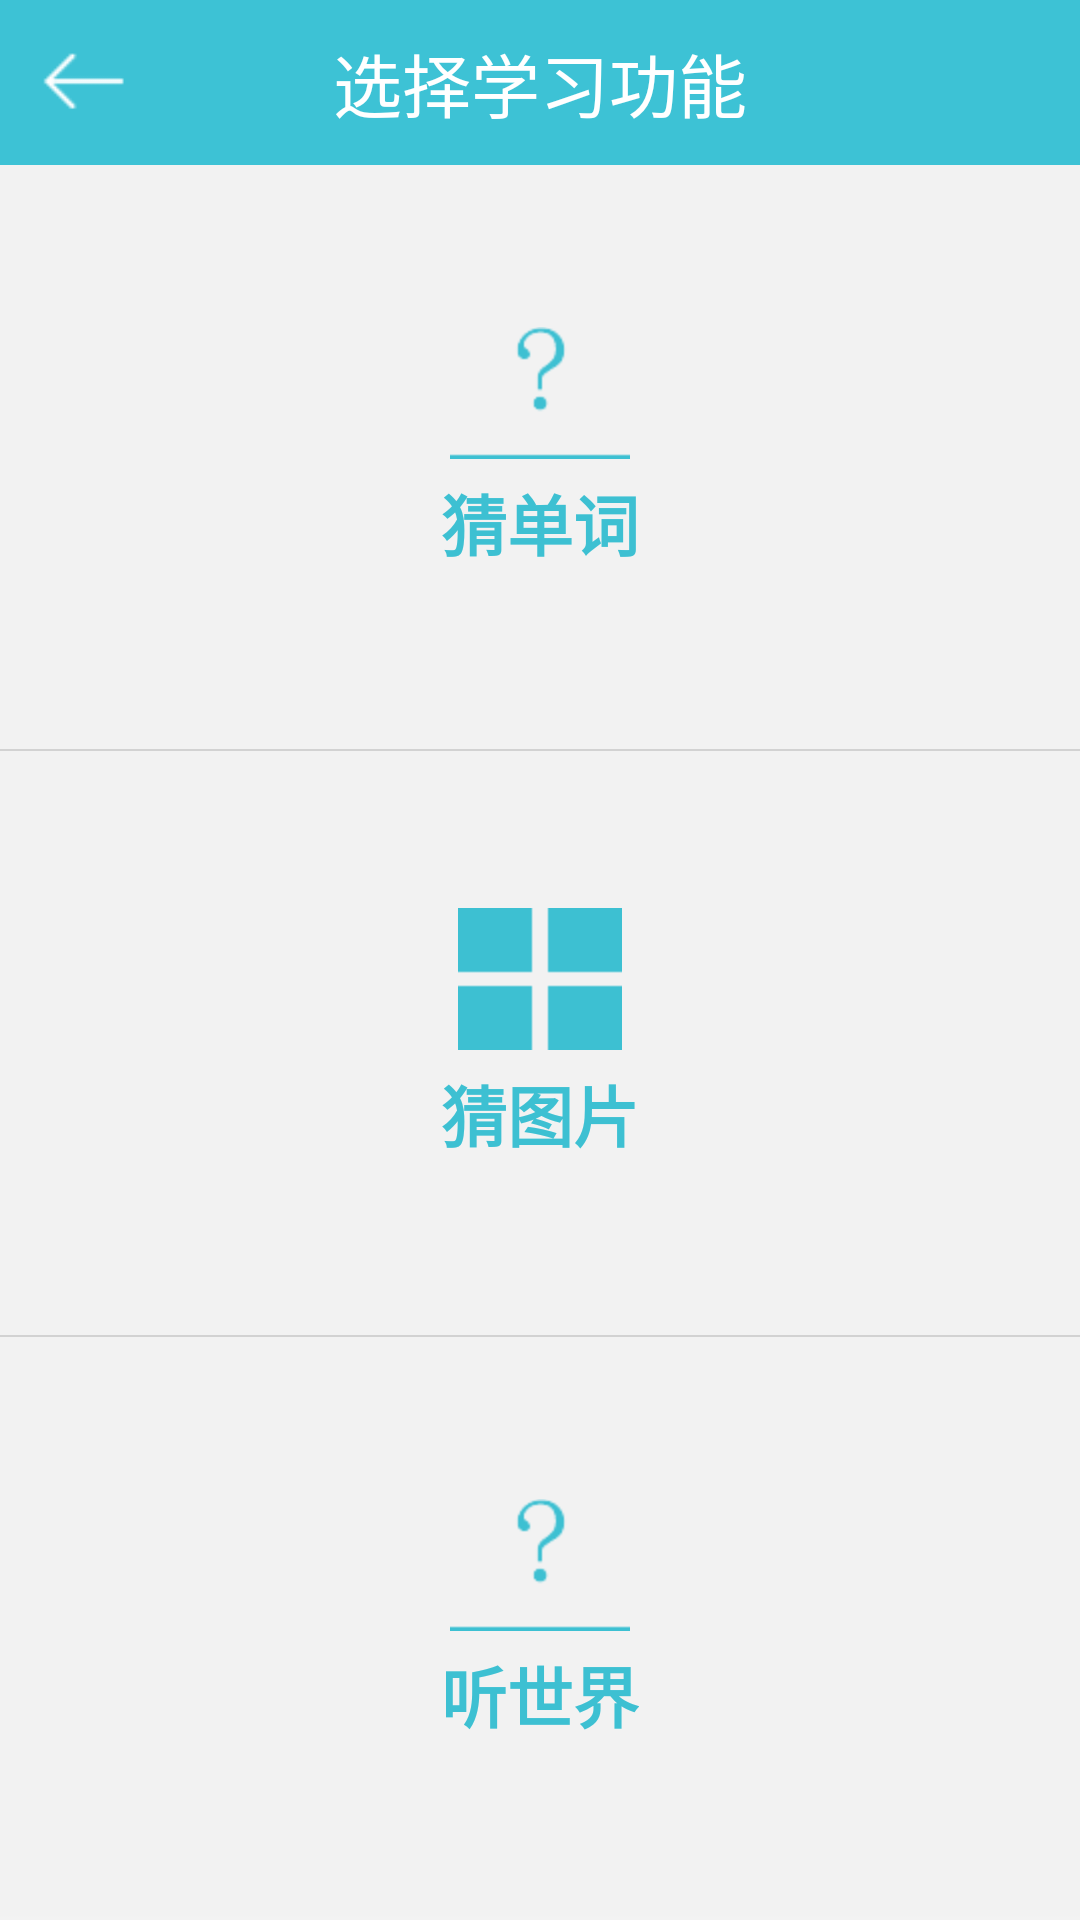

Screen size 1080*1920. Icon name, then its box in pixels as [left=x1, top=y1, right=x2, bottom=y2]:
back: [left=44, top=53, right=124, bottom=109]
